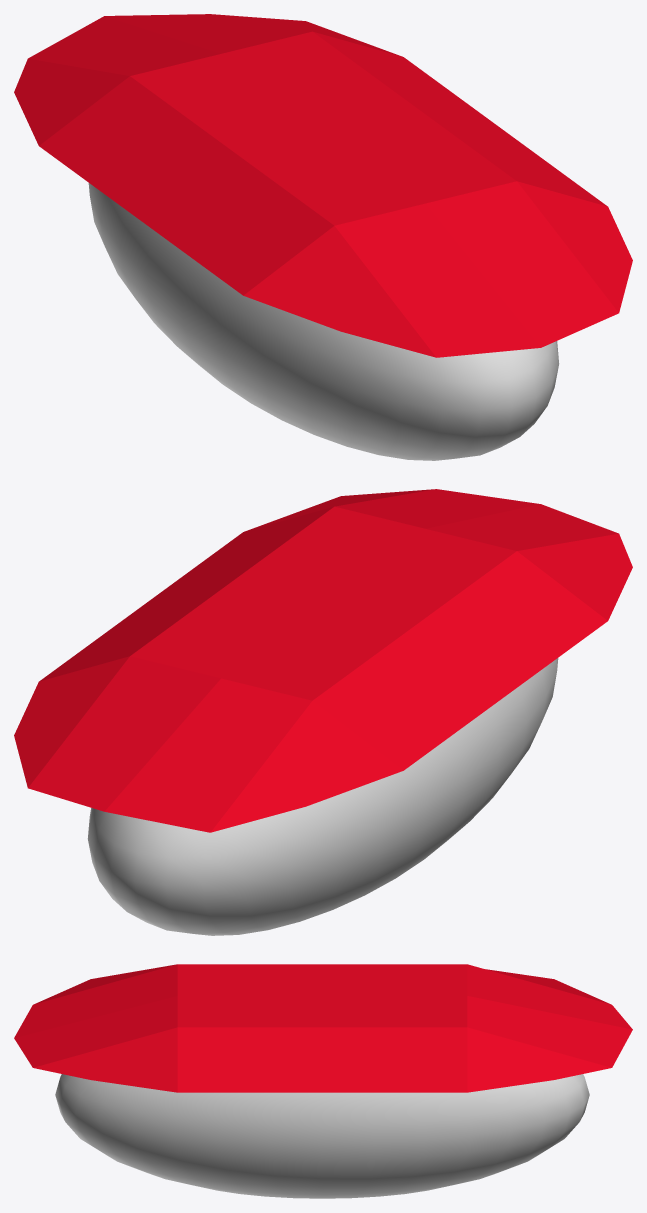
File: maguro.fbx
3 renders of one model, top to bottom at view 1: azimuth 30°, elevation 25°; view 2: azimuth 150°, elevation 25°; view 3: azimuth 270°, elevation 25°, orthographic. The views are drawn at different scales.
Visible parts, largest first — view 1: 平面, 球; view 2: 平面, 球; view 3: 平面, 球.
Part boxes in pixels (x1,y1,x2,y2): 平面: (14, 14, 632, 357); 球: (88, 183, 559, 460); 平面: (14, 489, 632, 832); 球: (87, 658, 558, 935); 平面: (14, 964, 632, 1092); 球: (55, 1074, 589, 1198).
Size of the model in its own units: 200 by 141 by 415.
